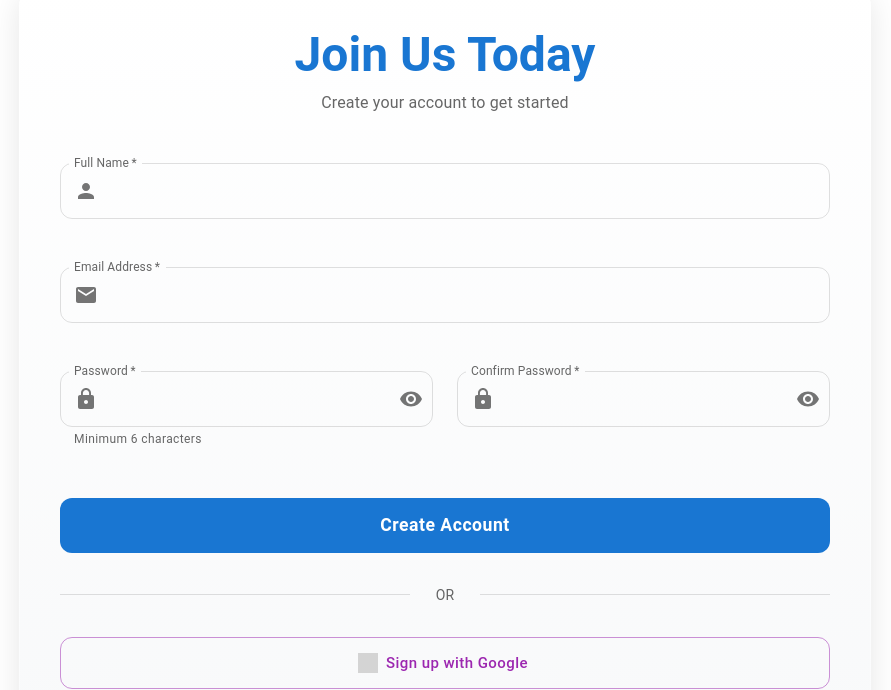
Test case: Register Component › handles registration error
The image size is (891, 690).
Type "Test User" into the field labelled "Full Name *".
click(468, 191); type("Test User")  # box [106, 163, 830, 219]
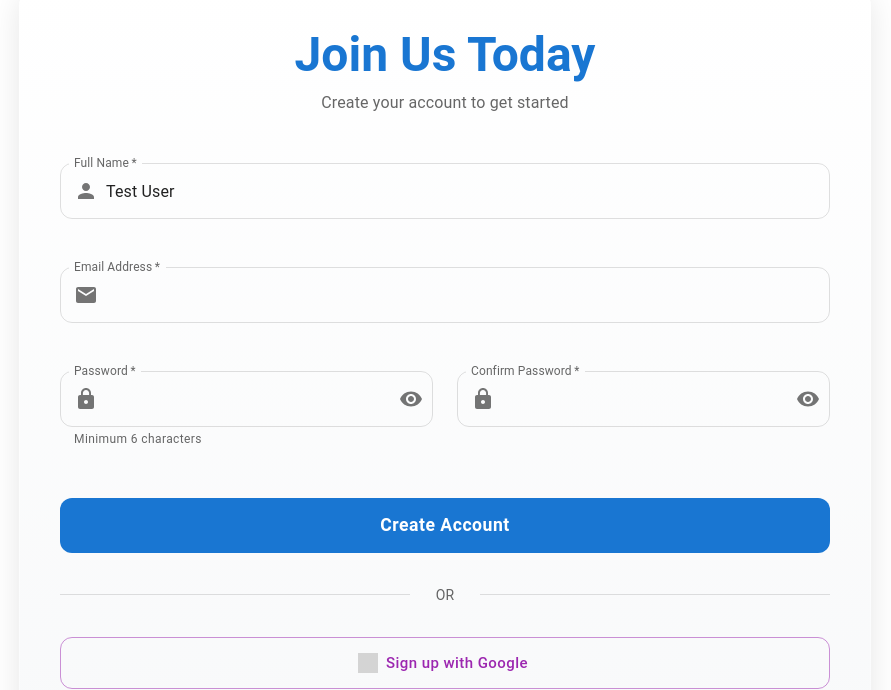
Type "test@example.com" into the field labelled "Email Address *".
click(468, 295); type("test@example.com")  # box [106, 267, 830, 323]
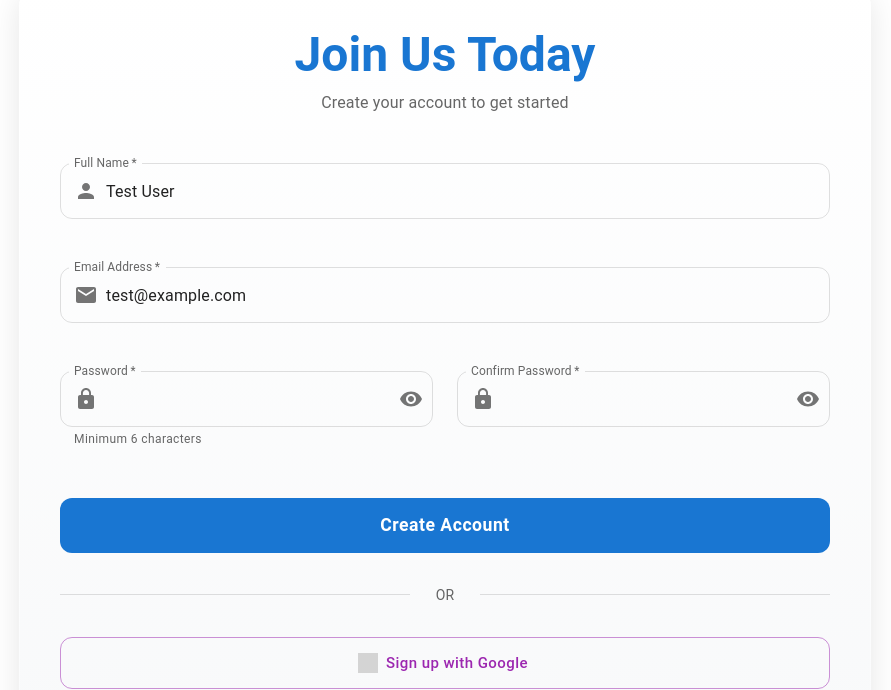
Type "password123" into the password field labelled "Password *".
click(244, 399); type("password123")  # box [106, 371, 383, 427]
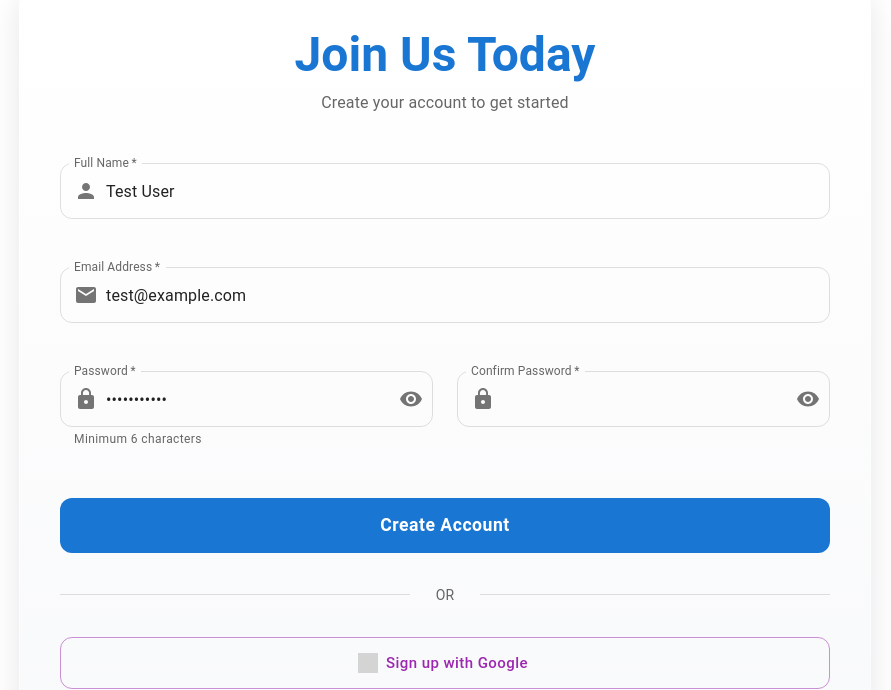
Type "password123" into the password field labelled "Confirm Password *".
click(642, 399); type("password123")  # box [503, 371, 780, 427]
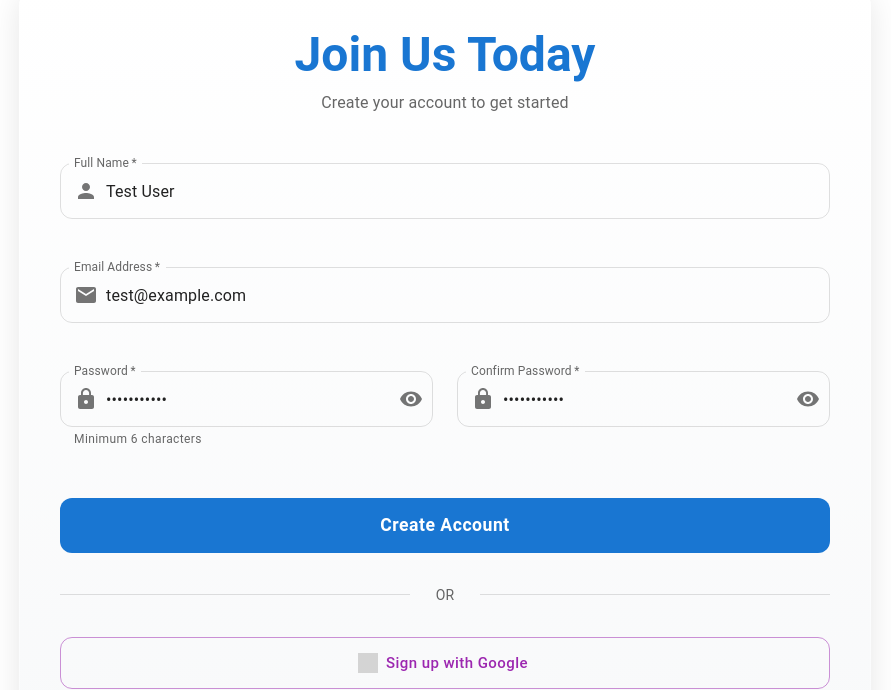
Click the button "Create Account".
click(445, 525)  # box [60, 498, 830, 553]
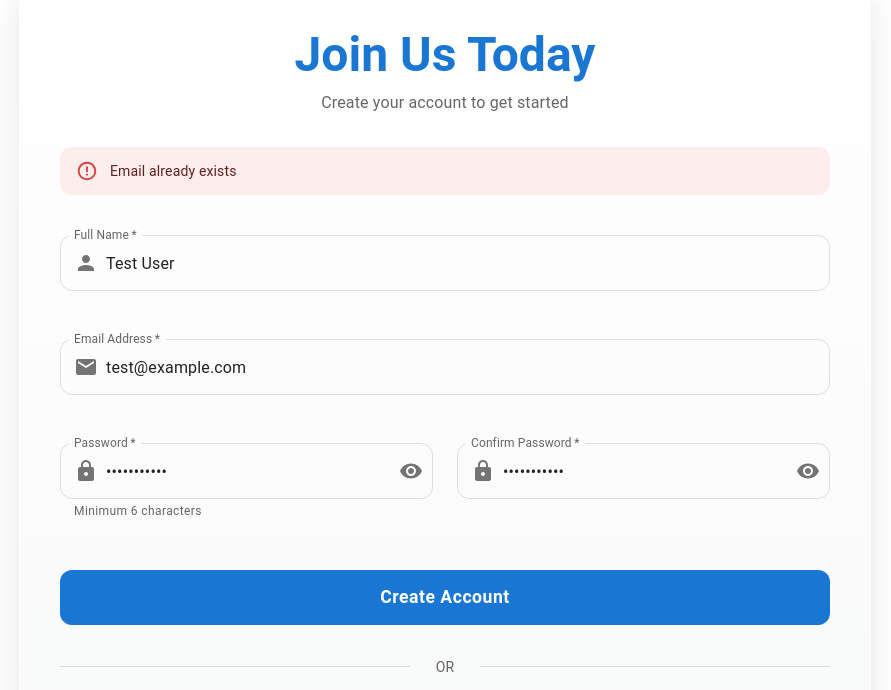
expect the text "Email already exists" is shown: met, box [110, 163, 237, 179]
